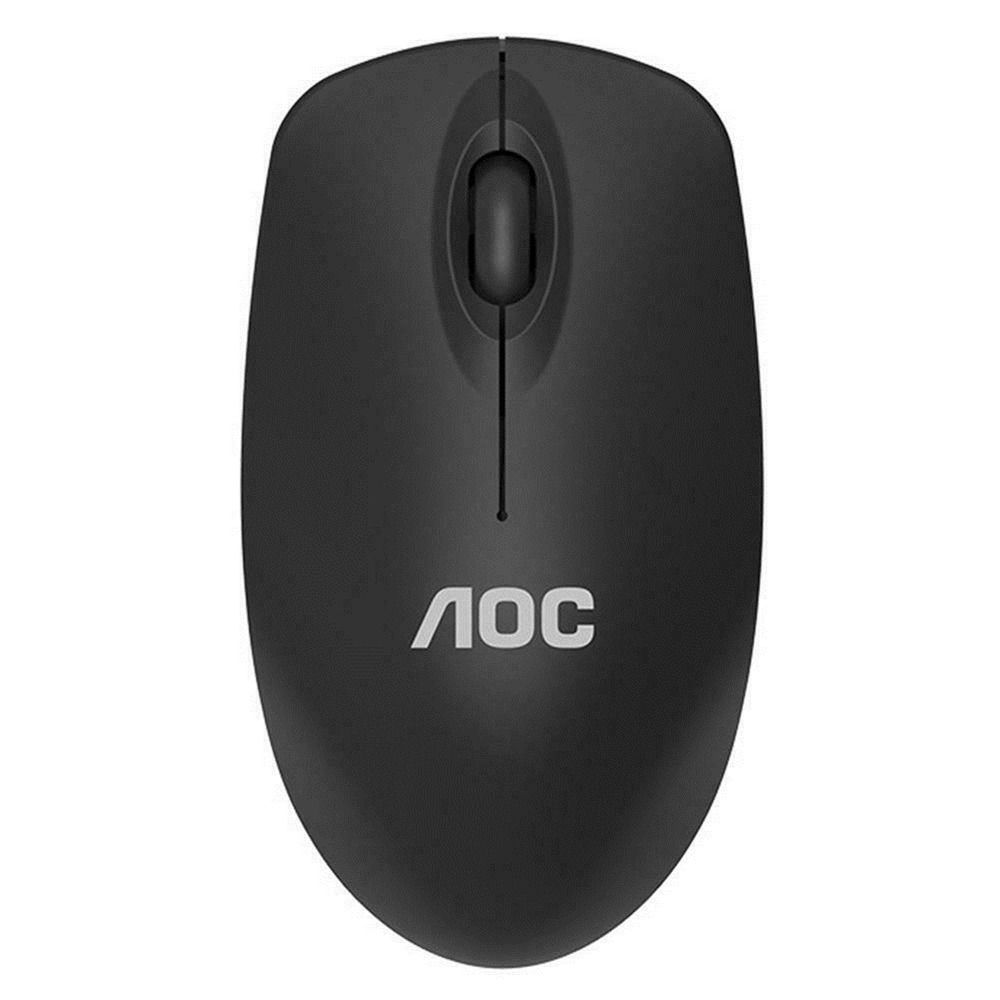mouse: (236, 18, 770, 977)
